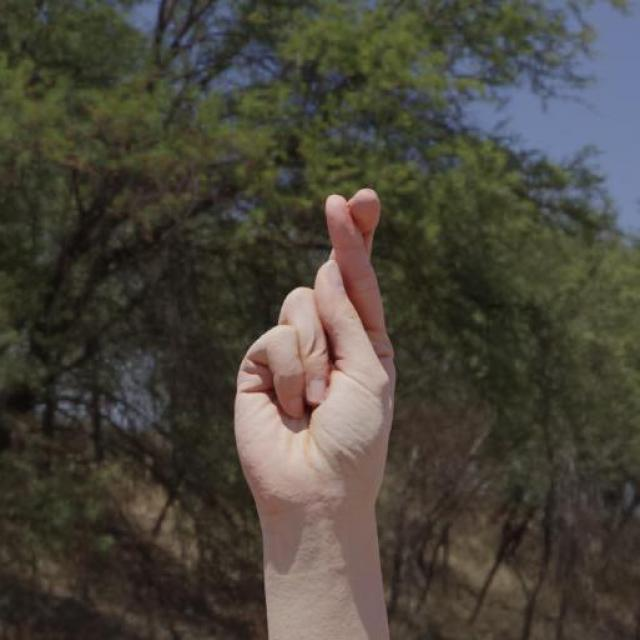R: (229, 180, 400, 530)
